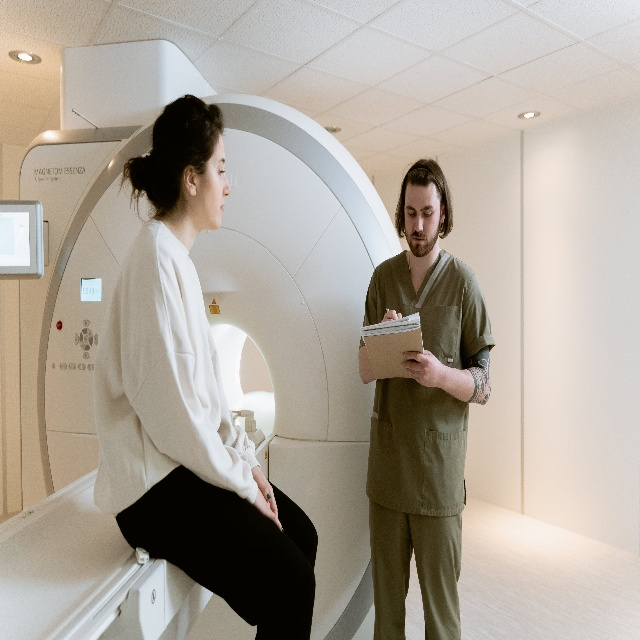Sin_guantes: (400, 345, 441, 392), (256, 485, 283, 535), (253, 471, 281, 519)
